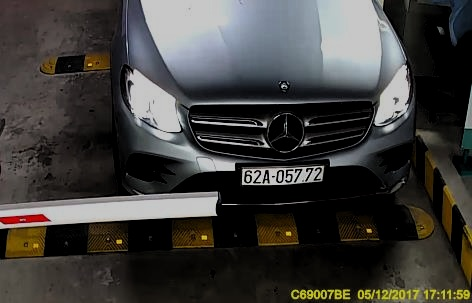plate: (238, 162, 326, 189)
